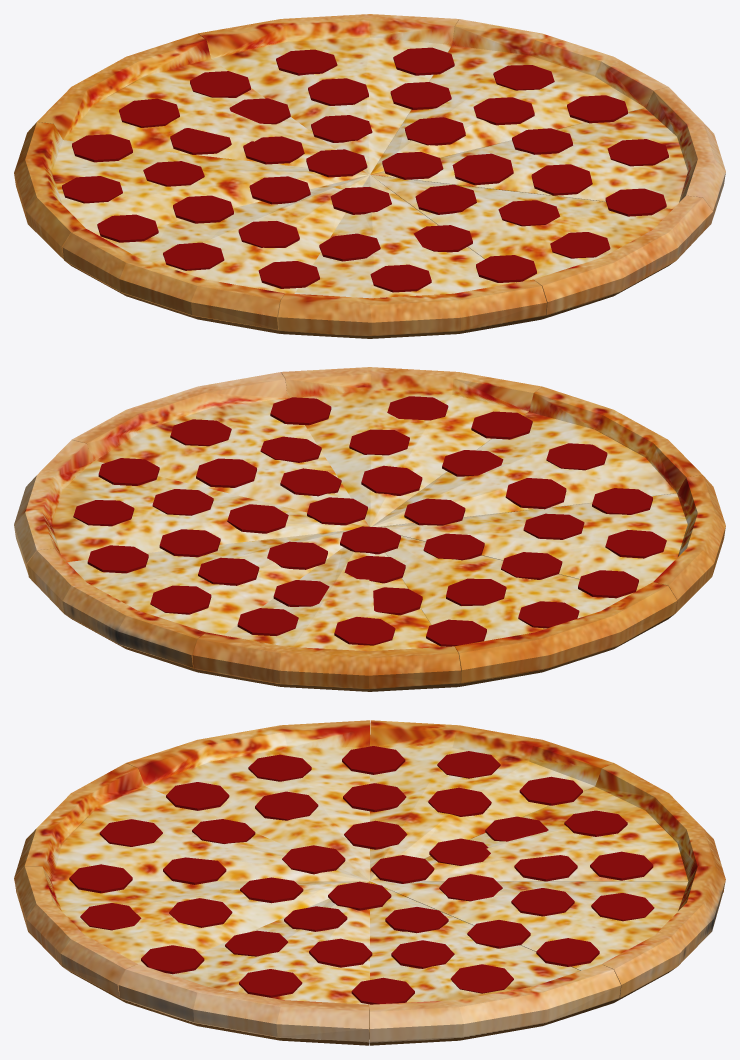
Rendered from Pepperoni pizza.glb.
3 views of the same model, one above another, from view 1: azimuth 30°, elevation 25°; view 2: azimuth 150°, elevation 25°; view 3: azimuth 270°, elevation 25° (orthographic).
Visible parts, largest first — view 1: Node; view 2: Node; view 3: Node.
Part boxes in pixels (left/top/right/bottom): Node: left=14, top=14, right=725, bottom=338; Node: left=14, top=367, right=725, bottom=691; Node: left=14, top=720, right=725, bottom=1045.
Size of the model in its own units: 5.33 by 0.3048 by 5.33.
Materials: 2 (1 with a texture image).
